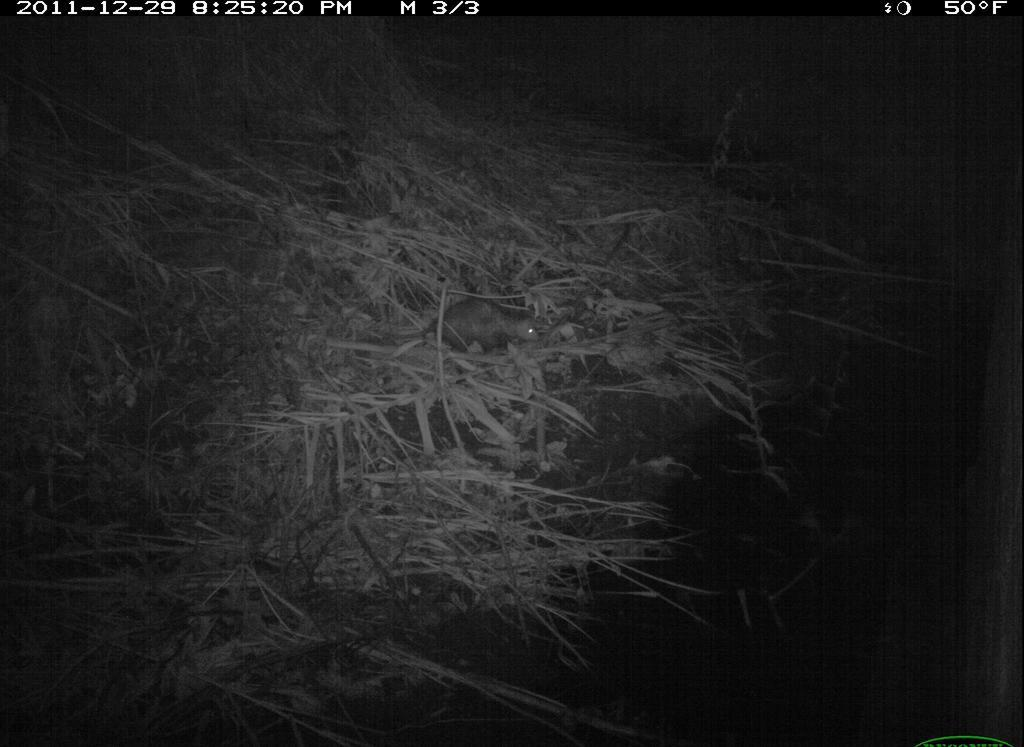opossum: (386, 290, 564, 381)
